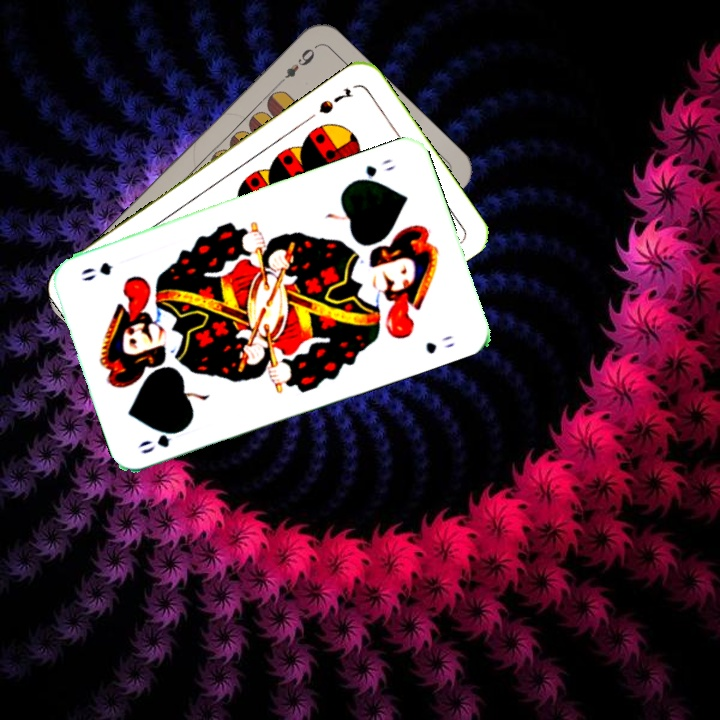E9: (272, 44, 317, 89)
GO: (134, 422, 190, 457), (348, 154, 398, 185)
S7: (314, 84, 357, 117)
